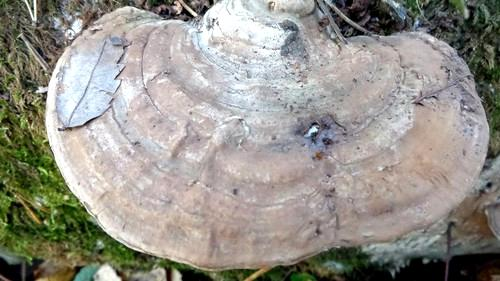Ganoderma - Fruit Body: (46, 4, 490, 270)
